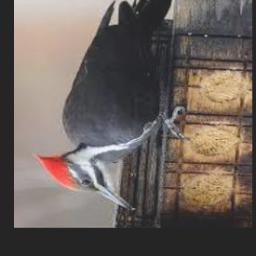Woodpecker: (34, 0, 187, 211)
